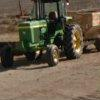Tractor: (6, 7, 94, 73)
